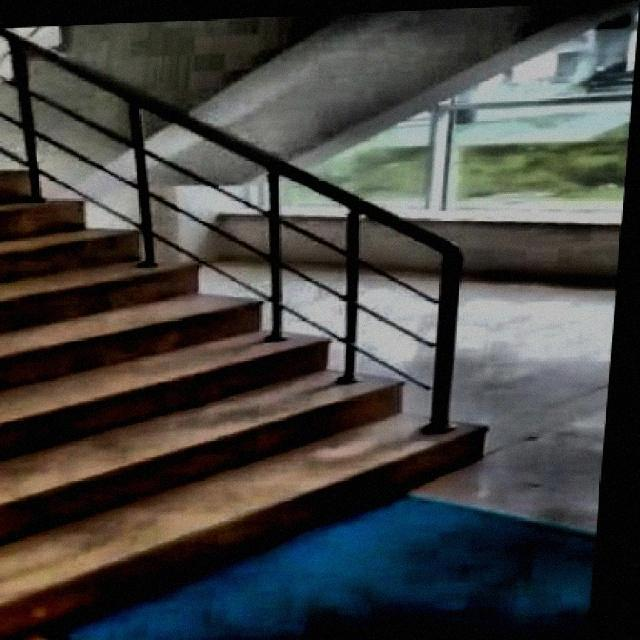stair: (2, 111, 530, 638)
